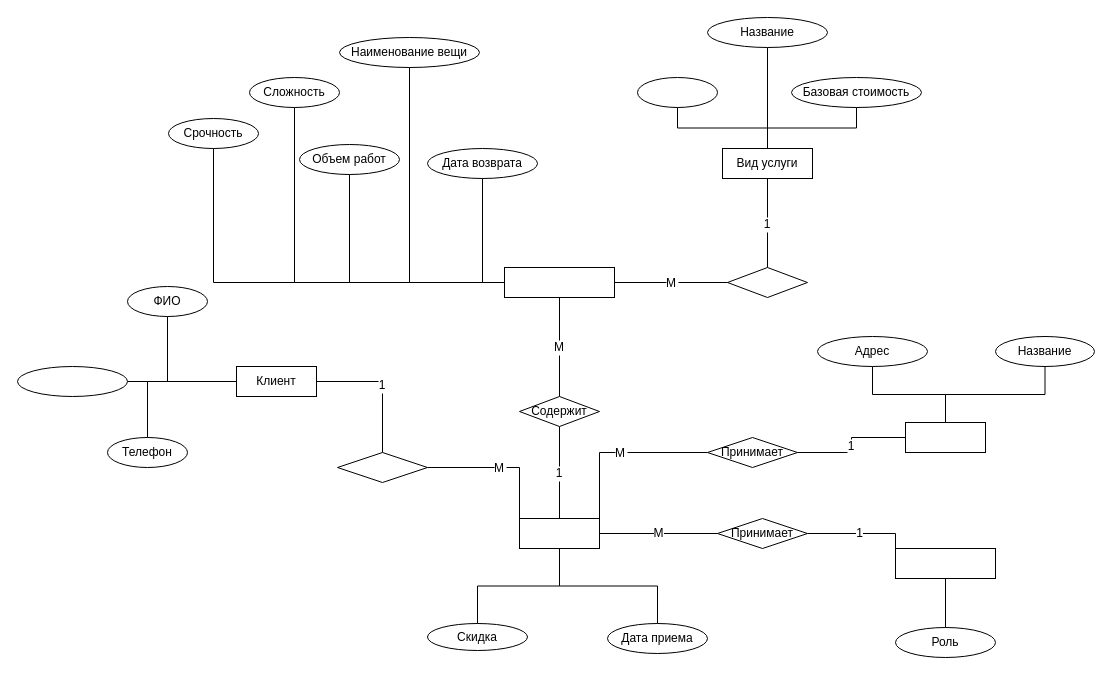
Some shapes in this 1112 by 675 pixel diagram are drawn without their labels. Here are the shapes that lost their labels. From the top down, the centre of each, then its label:
point 677,92: Тип
point 559,282: Позиция заказа
point 767,282: Включает
point 72,381: Статус клиента
point 945,437: Филиал
point 382,467: Оформляет
point 559,533: Заказ
point 945,563: Пользователь
